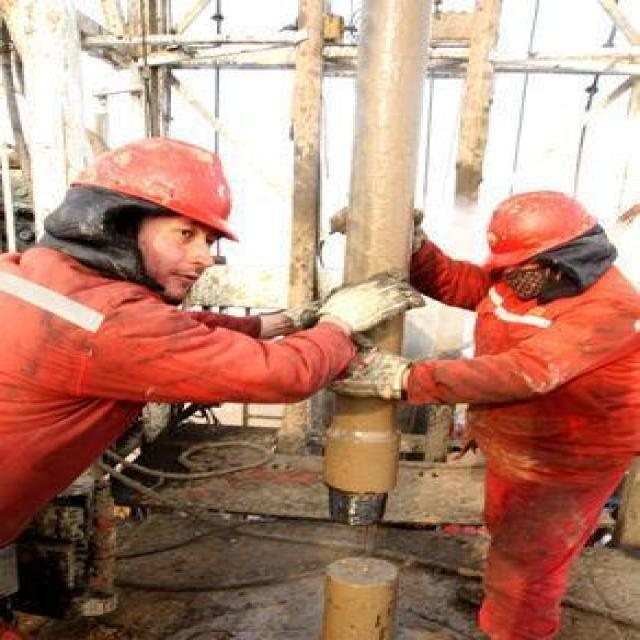hat: (44, 110, 263, 309), (467, 171, 625, 309)
